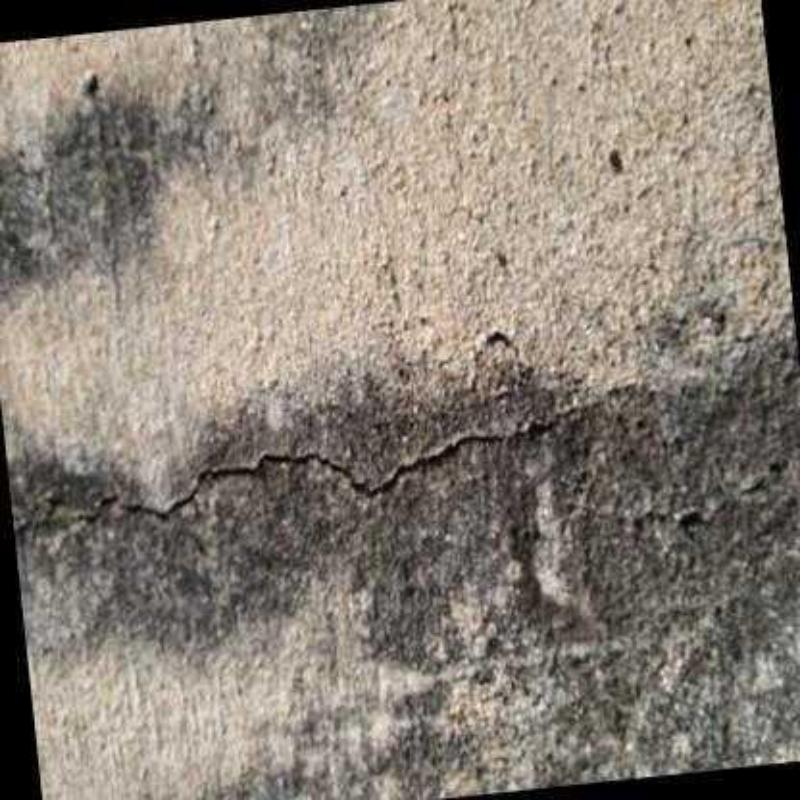pothole: (73, 424, 506, 527)
